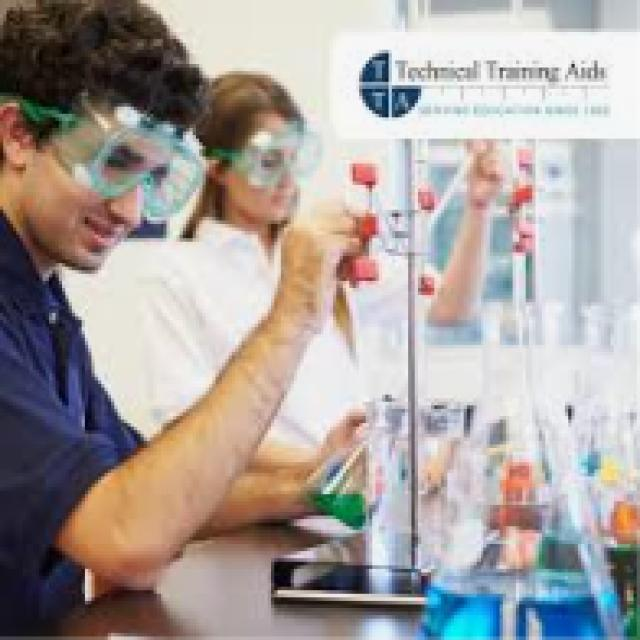glasses: (55, 91, 194, 218), (236, 120, 334, 195)
